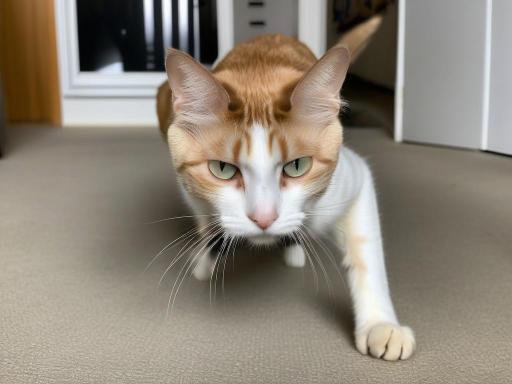cat_standing: (158, 34, 414, 360)
